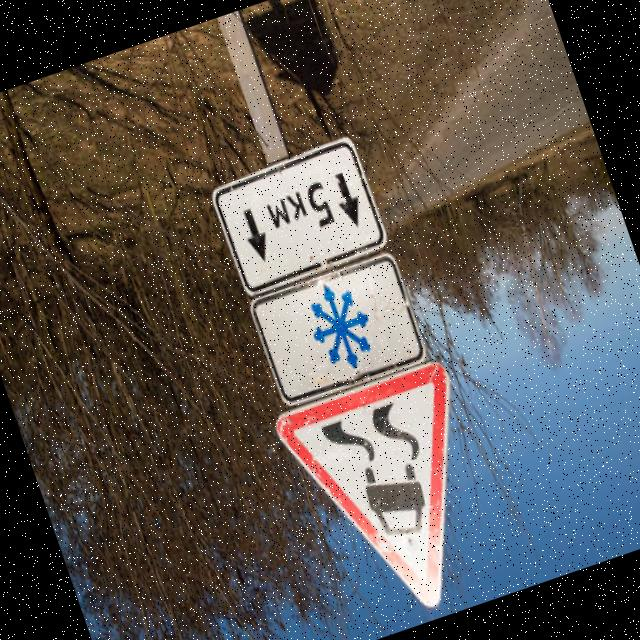road_slippery: (261, 350, 522, 640)
